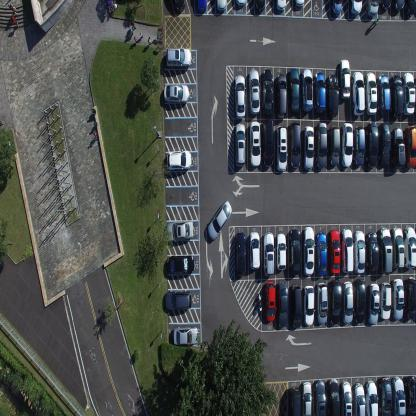car: (207, 198, 232, 240), (390, 126, 406, 169), (261, 117, 274, 167), (166, 219, 194, 242), (340, 228, 354, 274), (378, 227, 392, 273), (328, 278, 342, 324), (402, 71, 416, 116), (164, 289, 192, 311), (402, 124, 416, 168), (366, 282, 380, 326), (365, 121, 378, 168), (166, 254, 195, 275), (390, 75, 404, 118), (391, 226, 405, 269), (315, 120, 327, 170), (303, 226, 315, 276), (352, 70, 365, 116), (302, 125, 315, 171), (328, 228, 341, 274), (261, 68, 273, 117), (288, 120, 300, 169), (340, 122, 353, 167), (275, 124, 287, 172), (249, 120, 261, 168), (289, 228, 301, 276), (276, 280, 288, 328), (166, 149, 192, 171), (165, 48, 192, 69), (163, 83, 190, 104), (248, 68, 260, 115), (366, 232, 380, 272), (392, 375, 406, 415), (403, 277, 416, 320), (288, 67, 300, 113), (263, 230, 275, 276), (353, 278, 365, 324), (173, 324, 198, 346), (234, 74, 246, 119), (275, 74, 287, 119), (378, 122, 390, 167), (316, 231, 328, 276), (378, 377, 392, 415), (327, 74, 339, 118), (365, 71, 377, 115), (235, 230, 246, 278), (353, 230, 365, 274), (404, 226, 416, 270), (341, 280, 353, 324), (316, 281, 328, 325), (264, 279, 276, 323), (301, 69, 313, 112), (328, 124, 340, 167), (392, 278, 404, 321), (379, 281, 392, 320), (291, 282, 302, 328), (314, 72, 326, 114), (339, 58, 351, 100), (378, 74, 390, 116), (353, 125, 365, 167), (303, 284, 315, 326), (365, 380, 379, 416), (234, 122, 245, 167), (327, 378, 340, 416), (404, 376, 416, 416), (340, 381, 353, 415), (249, 231, 260, 271), (314, 380, 326, 416), (276, 232, 286, 272), (353, 383, 365, 415), (289, 386, 301, 416), (302, 381, 312, 415), (365, 0, 379, 18), (350, 0, 362, 16), (330, 0, 342, 15), (404, 0, 416, 15), (392, 0, 406, 12), (196, 0, 207, 14), (216, 0, 227, 14), (174, 0, 186, 12), (275, 0, 287, 12), (379, 0, 391, 12), (254, 0, 265, 12), (235, 0, 246, 8), (294, 0, 305, 8)
